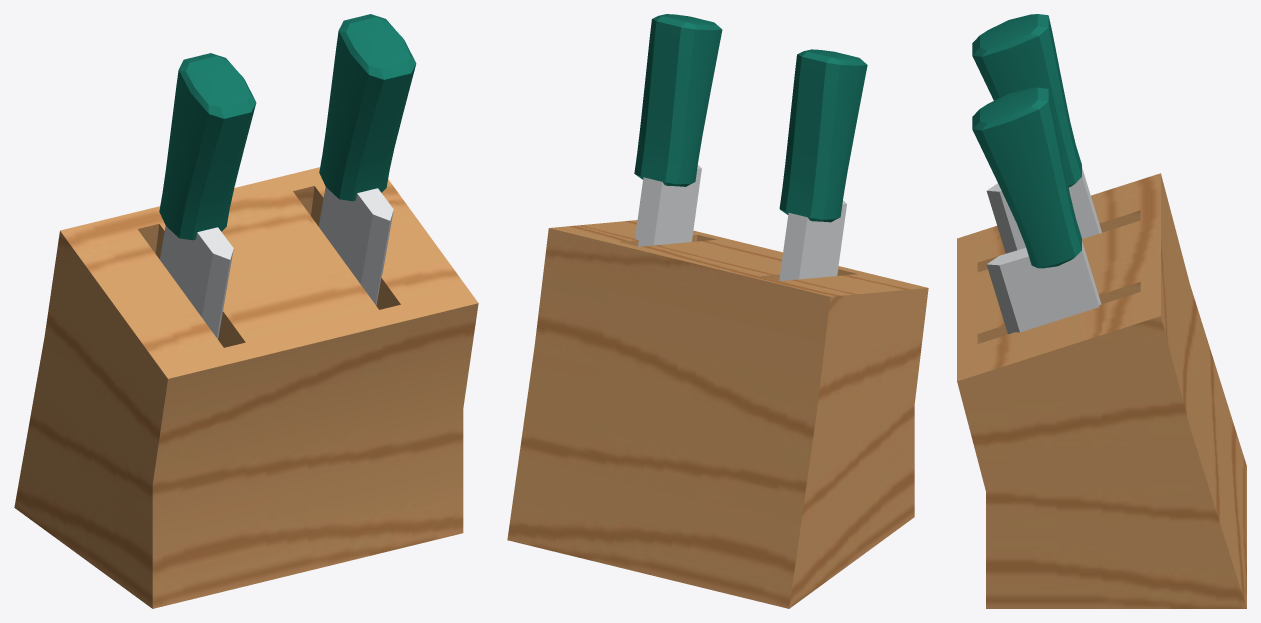
File: knives_a.glb
3 views of the same model, side by side, from view 1: azimuth 30°, elevation 25°; view 2: azimuth 150°, elevation 25°; view 3: azimuth 270°, elevation 25° (orthographic). The views are drawn at different scales.
Visible parts, largest first — view 1: body; view 2: body; view 3: body.
Boxes of the visible parts, box(x1,y1,x2,y2) form: body: box(14, 14, 478, 608); body: box(507, 14, 928, 608); body: box(957, 14, 1246, 608).
Size of the model in its own units: 0.14 by 0.22 by 0.12.
Materials: 3 (1 with a texture image).
